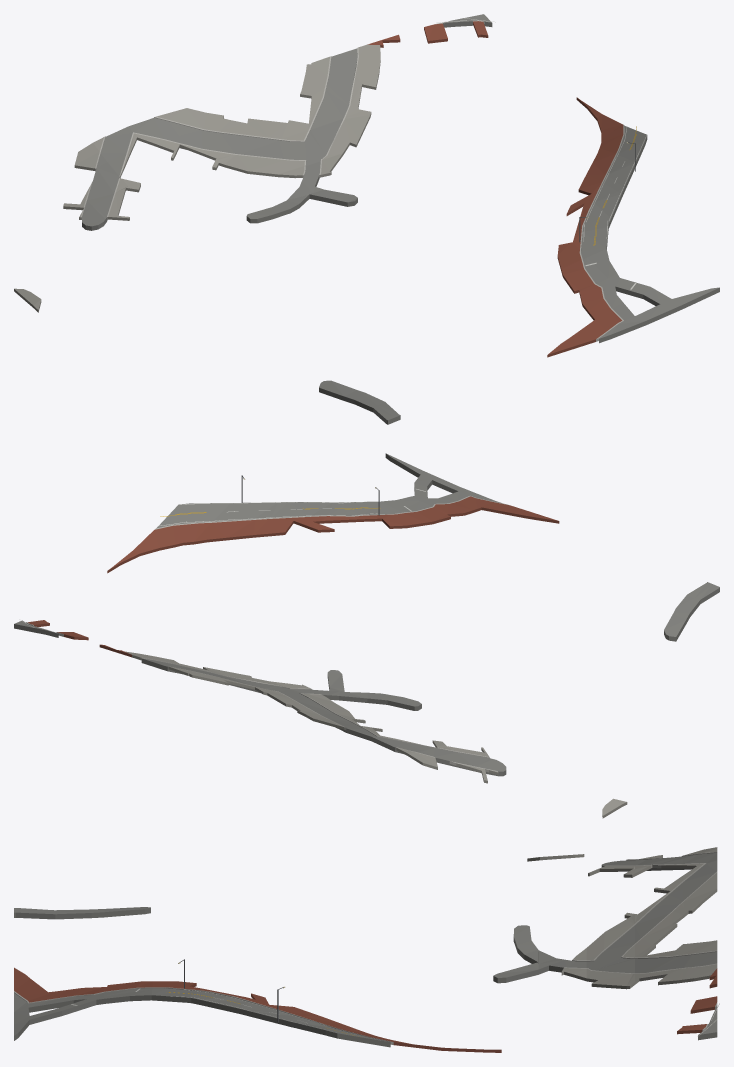
3 renders of one model, top to bottom at view 1: azimuth 30°, elevation 25°; view 2: azimuth 150°, elevation 25°; view 3: azimuth 270°, elevation 25°, orthographic. The views are drawn at different scales.
Size of the model in its own units: 148 by 34.26 by 146.
